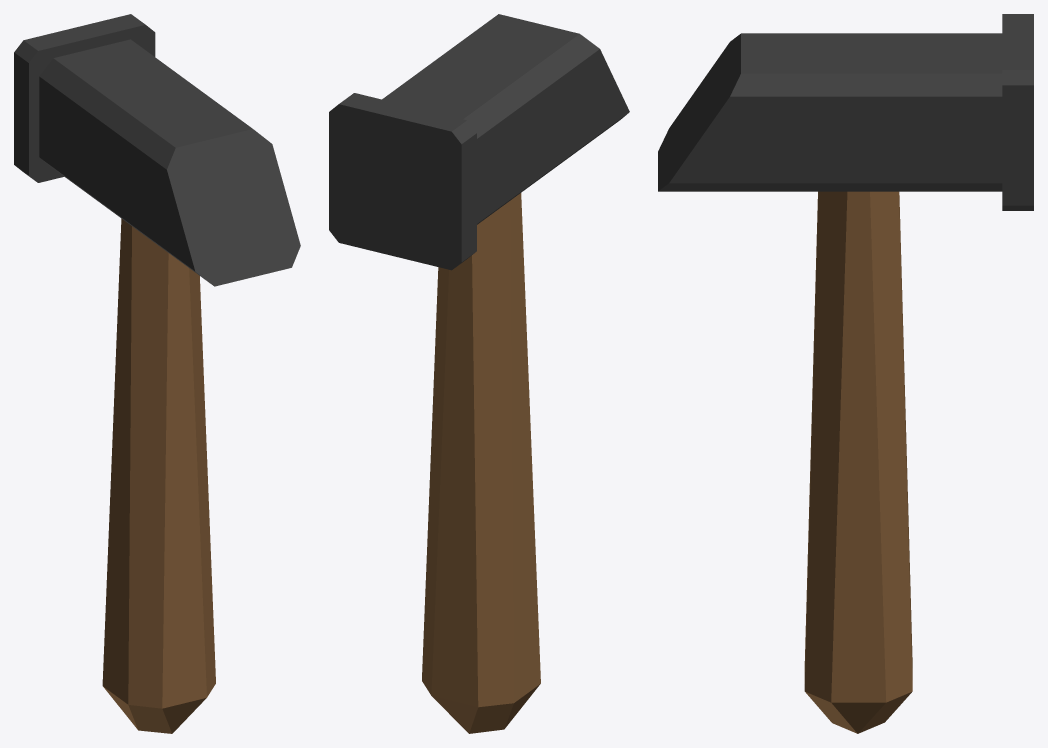
The model's file is hamer.fbx.
3 views of the same model, side by side, from view 1: azimuth 30°, elevation 25°; view 2: azimuth 150°, elevation 25°; view 3: azimuth 270°, elevation 25° (orthographic). The views are drawn at different scales.
Parts seen in each view (by area): view 1: Cube; view 2: Cube; view 3: Cube.
Boxes of the visible parts, x1=… form: Cube: x1=14, y1=14, x2=300, y2=733; Cube: x1=329, y1=14, x2=629, y2=733; Cube: x1=658, y1=14, x2=1033, y2=733.
Size of the model in its own units: 61.91 by 299 by 149.
